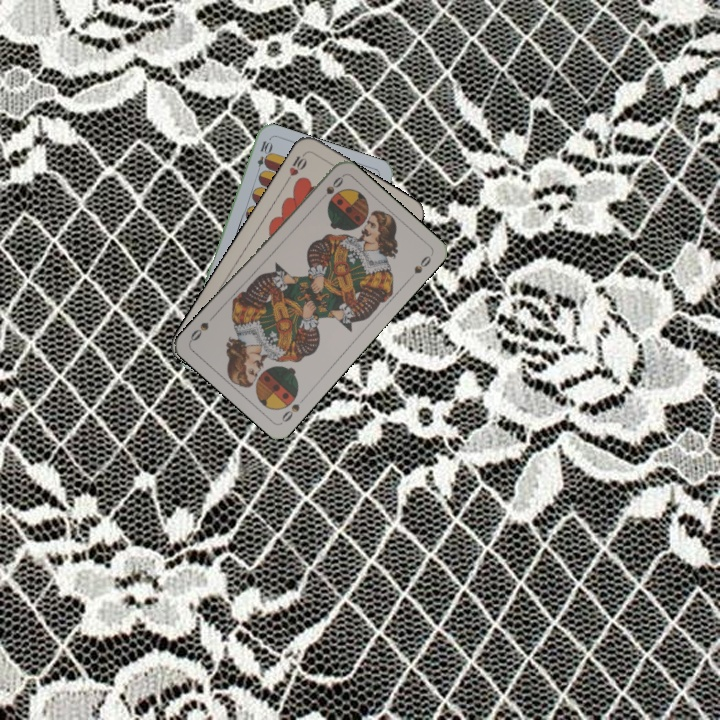E10: (253, 137, 273, 177)
H10: (282, 149, 310, 185)
SO: (314, 173, 346, 206), (278, 392, 309, 425)
